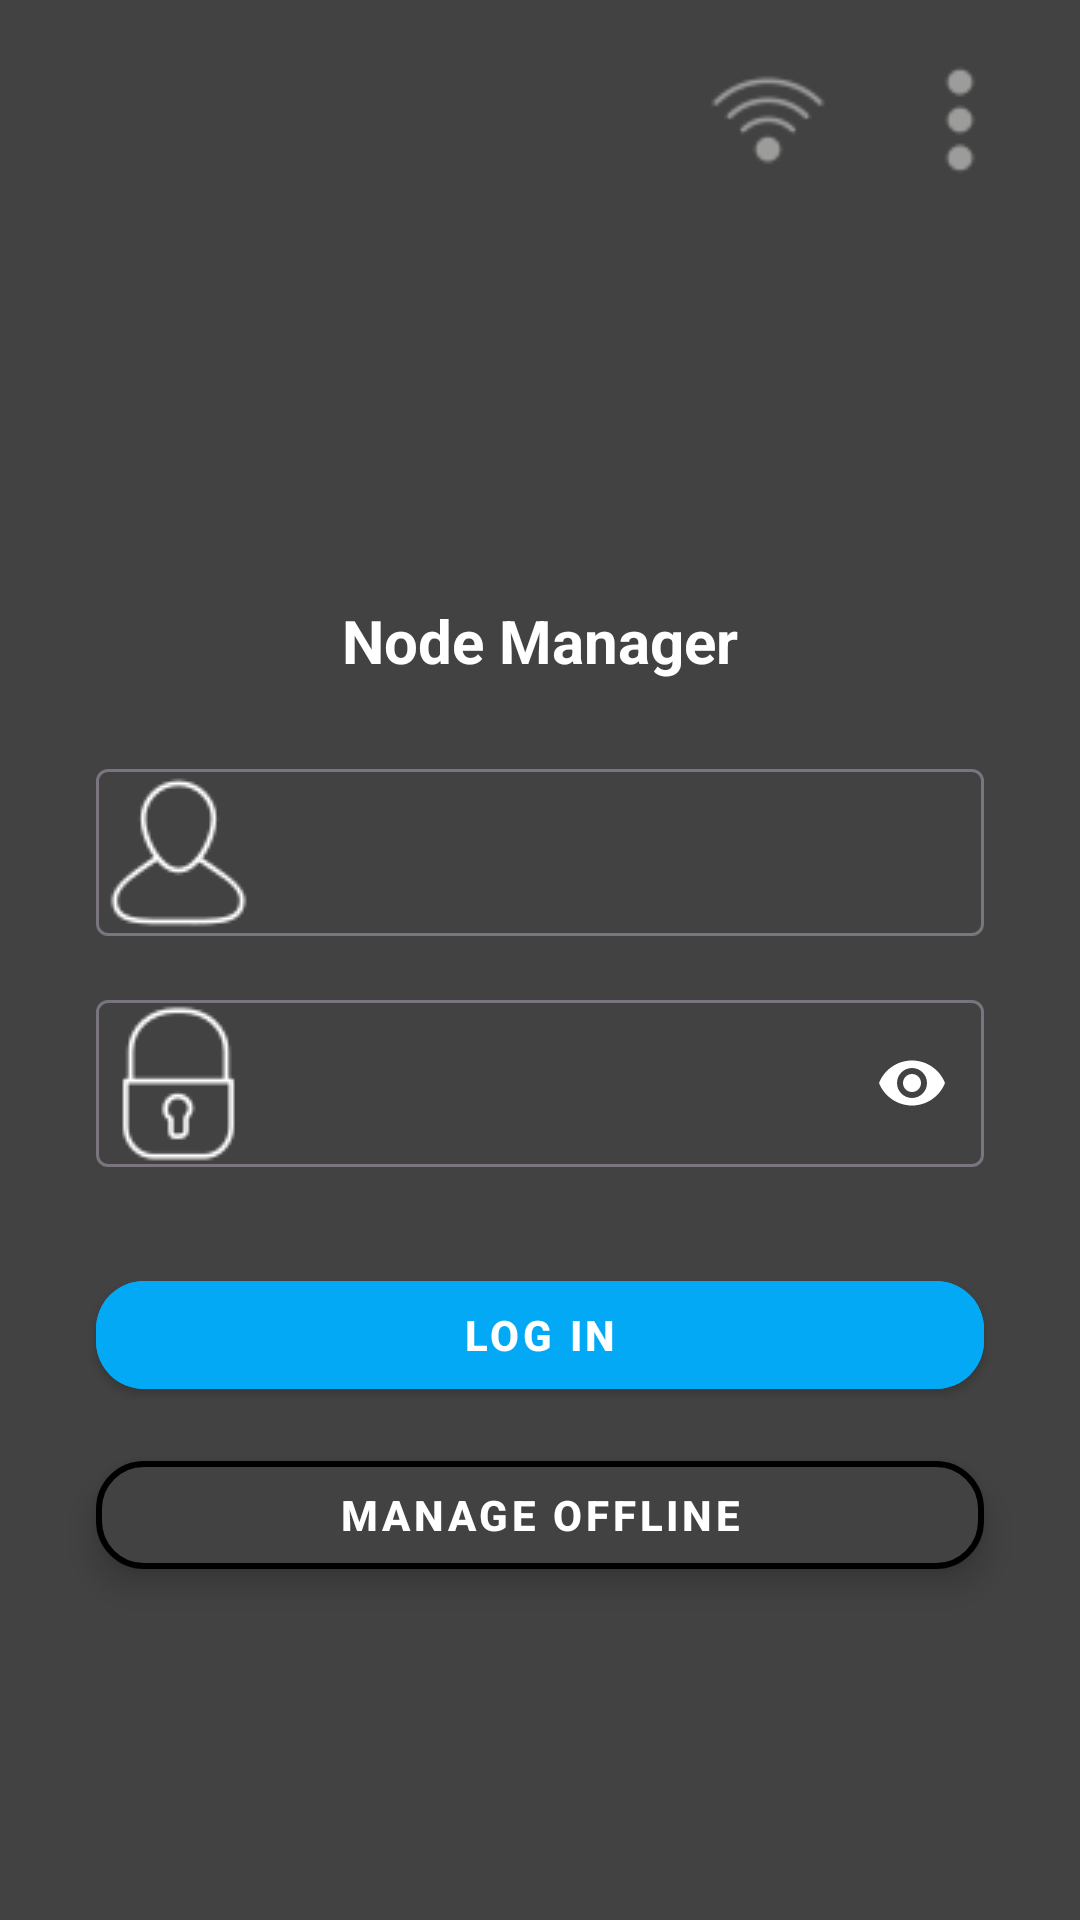

Icons on this 1080px×1920px Android screen, each with the point to tap as (x,y):
Connect: (768,120)
Menu: (960,120)
